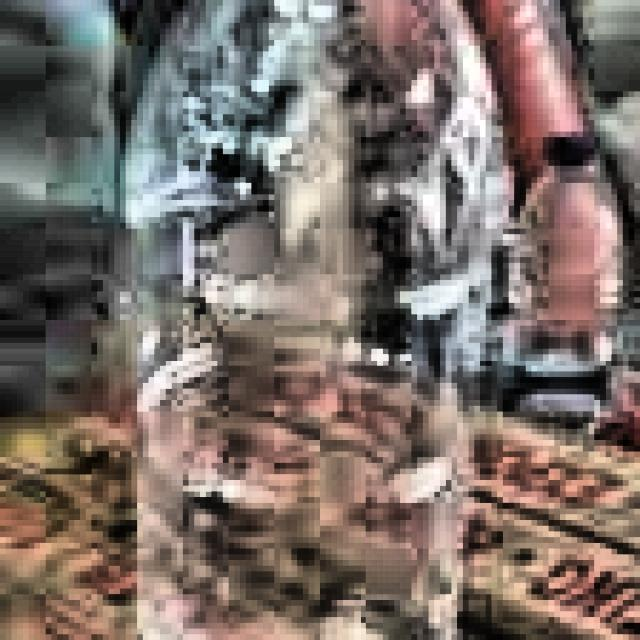plastic: (132, 0, 548, 640)
